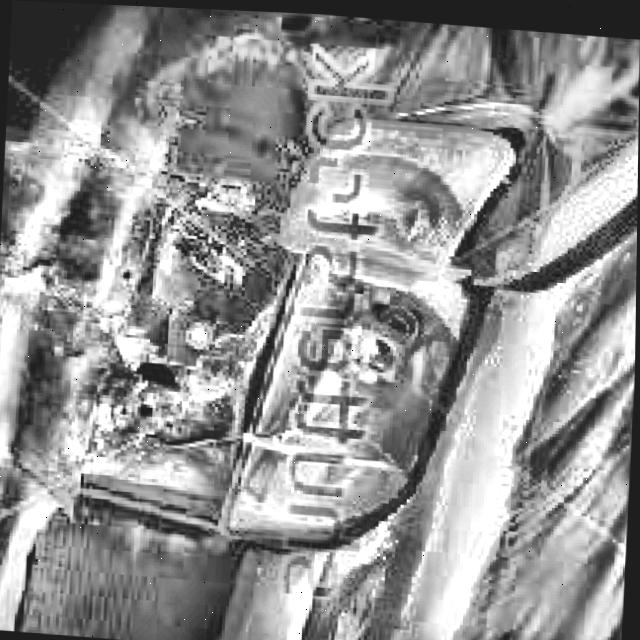head_lamp: (136, 43, 544, 314), (52, 243, 421, 533)
